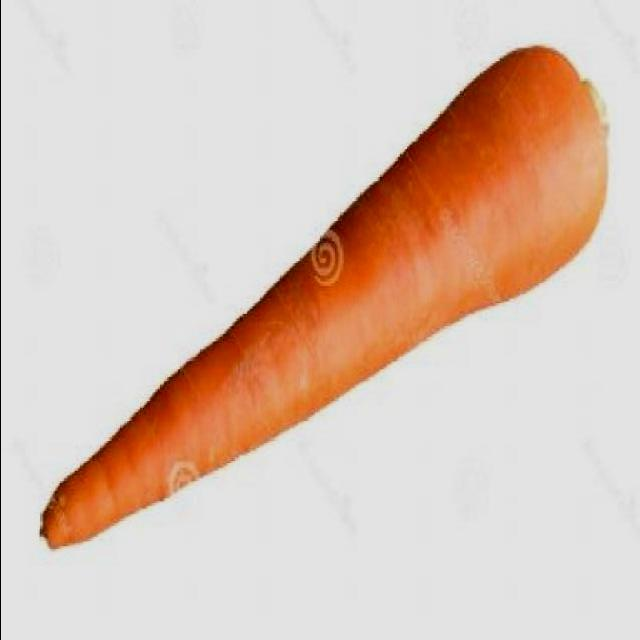carrot: (34, 32, 630, 580)
